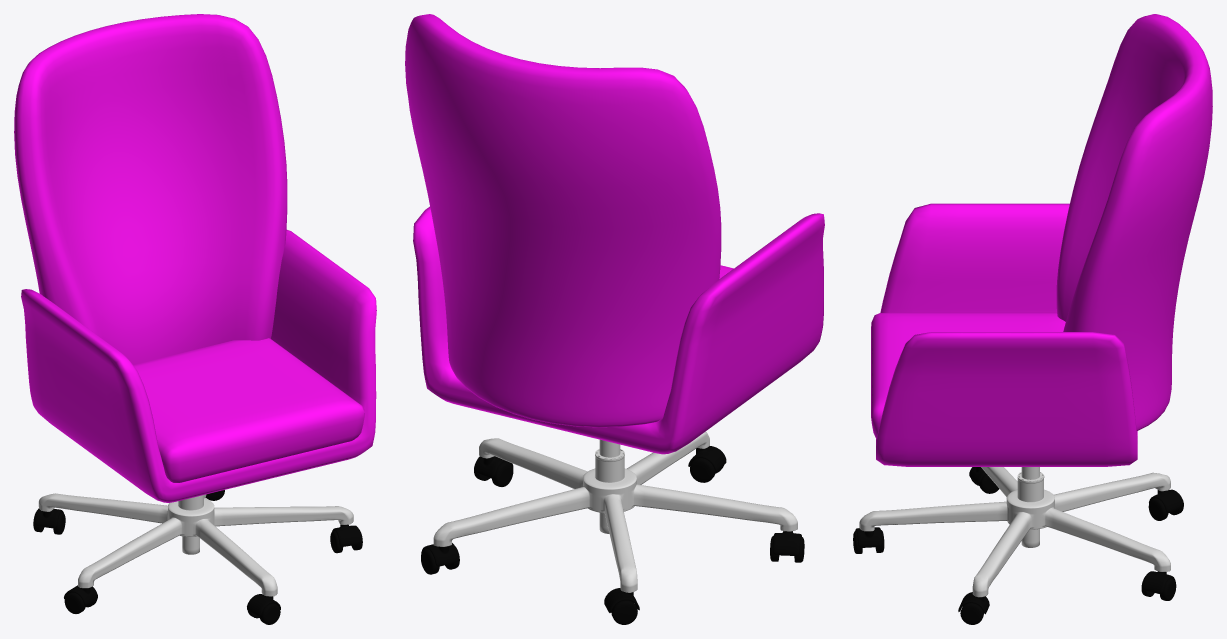
File: seat_big_purple.glb
3 renders of one model, left to right at view 1: azimuth 30°, elevation 25°; view 2: azimuth 150°, elevation 25°; view 3: azimuth 270°, elevation 25°, orthographic. The views are drawn at different scales.
Parts seen in each view (by area): view 1: seat_side_low_7, pasted__pCylinder1_7; view 2: seat_side_low_7, pasted__pCylinder1_7; view 3: seat_side_low_7, pasted__pCylinder1_7.
Part boxes in pixels (x1=…): seat_side_low_7: x1=14, y1=14, x2=376, y2=502; pasted__pCylinder1_7: x1=33, y1=490, x2=362, y2=624; seat_side_low_7: x1=405, y1=14, x2=824, y2=454; pasted__pCylinder1_7: x1=421, y1=431, x2=804, y2=624; seat_side_low_7: x1=871, y1=14, x2=1212, y2=466; pasted__pCylinder1_7: x1=853, y1=467, x2=1183, y2=624.
Bounding box in the file's own units: 0.772 × 1.22 × 0.8101.
